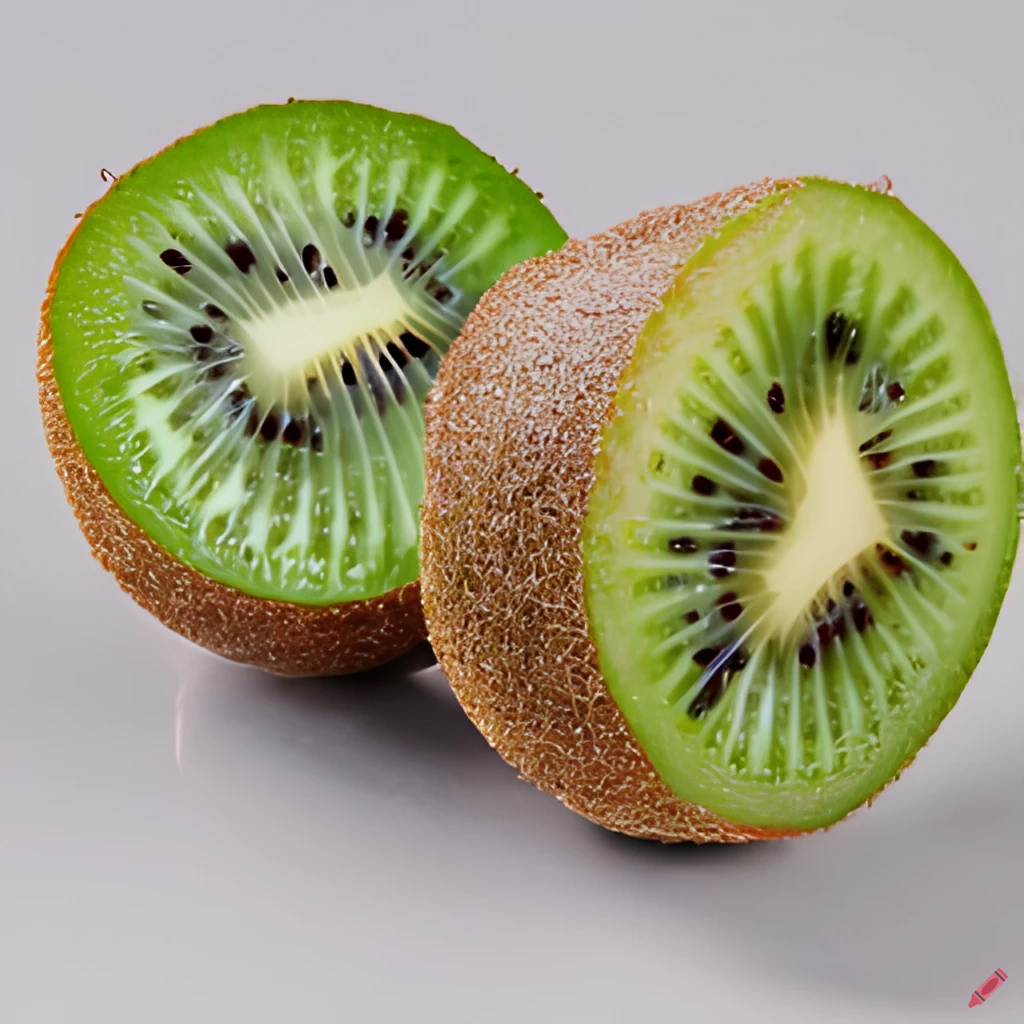Kiwi: (404, 126, 1020, 851)
